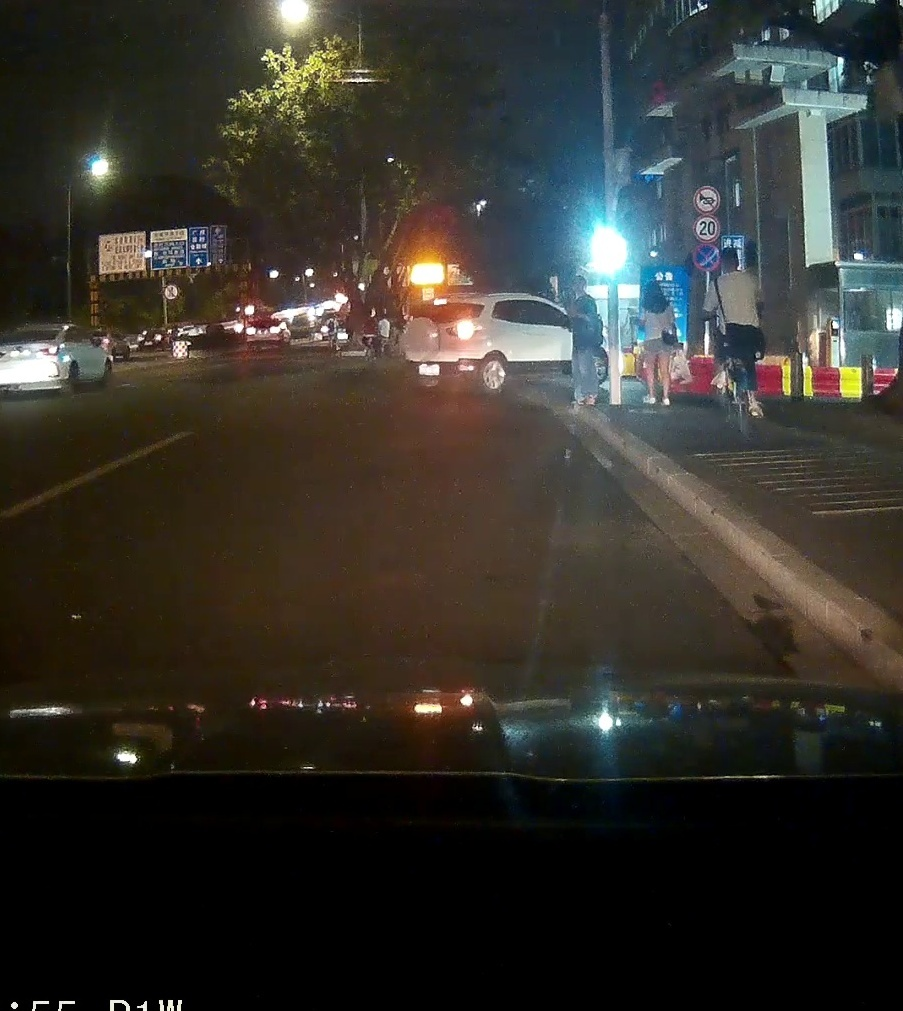L_light: (0, 351, 6, 359)
R_light: (39, 346, 60, 356)
T_light: (25, 330, 37, 333)
night-no: (0, 323, 65, 397)
